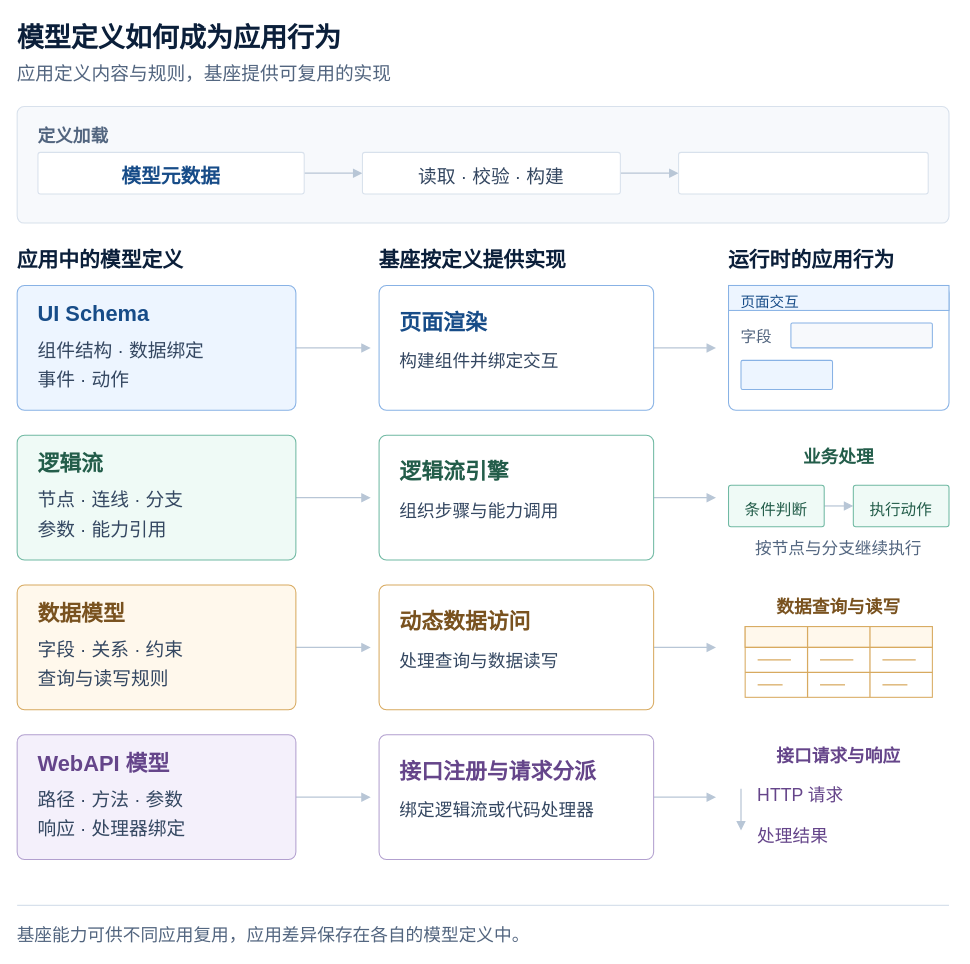
Image size: 970x964. Some labels were removed from this diagram. The centre of each missing label's shape, as x and y in pixels:
提交: (x=786, y=374)
运行时模型: (x=803, y=172)
